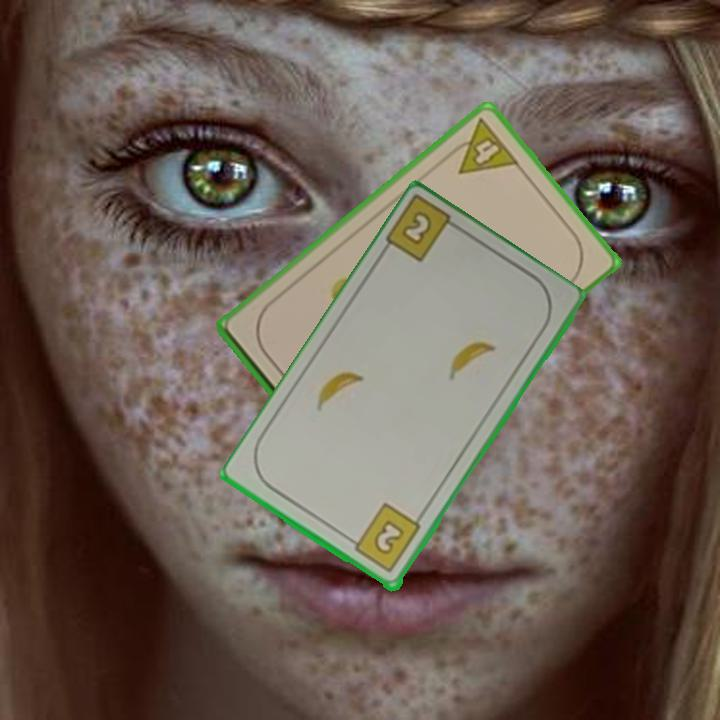2b: (344, 500, 424, 576), (382, 195, 467, 266)
4p: (442, 114, 522, 177)
